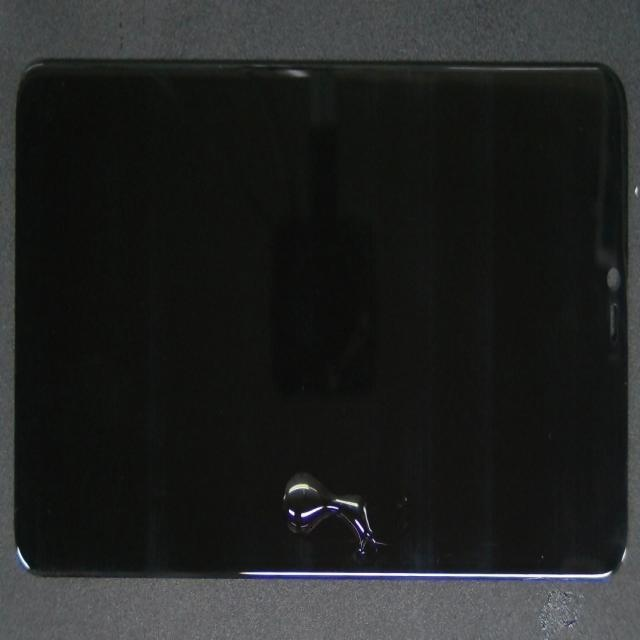oil: (195, 247, 475, 640)
